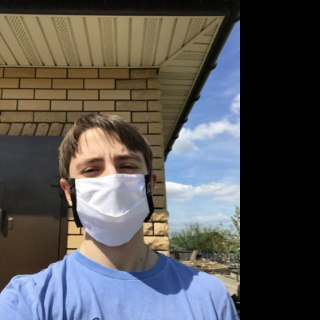with_mask: (68, 144, 152, 246)
